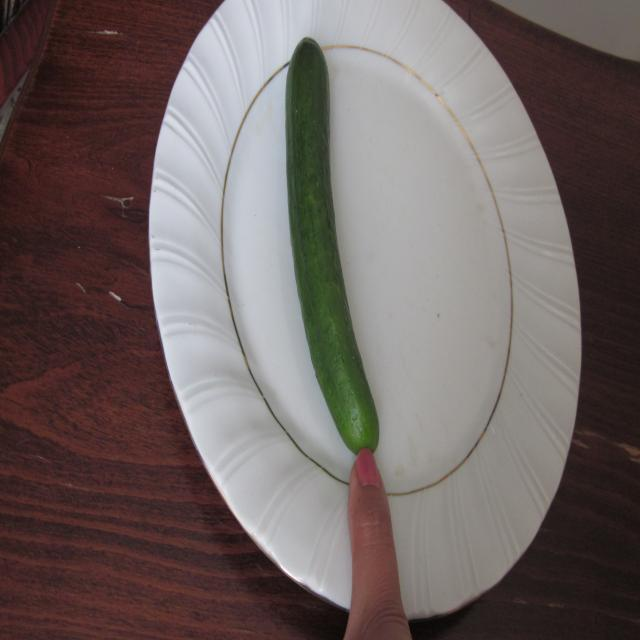Cucumber: (280, 22, 394, 448)
Finger: (343, 450, 408, 594)
